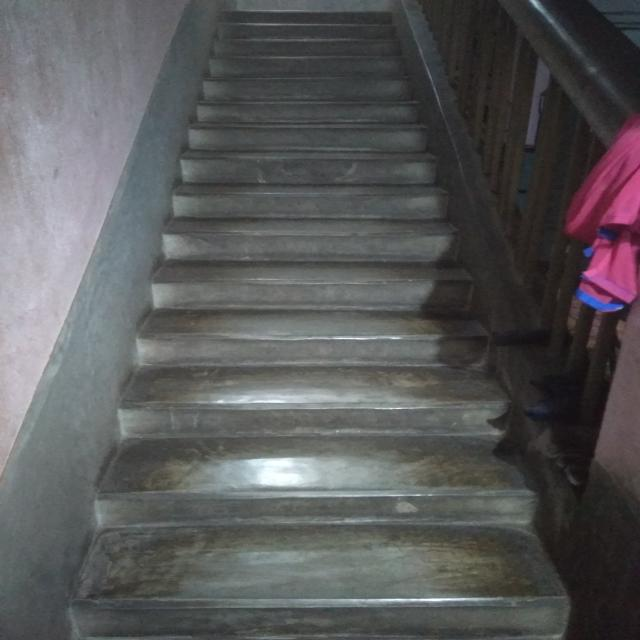Stairs: (56, 22, 560, 630)
